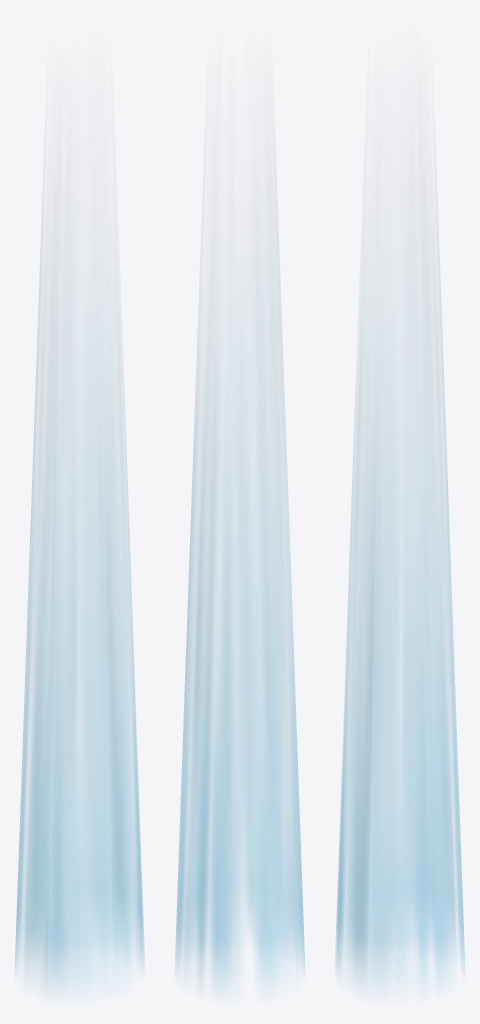
The picture shows the model from 3 angles, left to right: view 1: azimuth 90°, elevation 25°; view 2: azimuth 210°, elevation 25°; view 3: azimuth 270°, elevation 25°; orthographic projection.
Parts seen in each view (by area): view 1: beam_fx; view 2: beam_fx; view 3: beam_fx.
Boxes of the visible parts, x1=… form: beam_fx: x1=15, y1=62, x2=144, y2=996; beam_fx: x1=175, y1=61, x2=304, y2=995; beam_fx: x1=335, y1=58, x2=464, y2=994.
Size of the model in its own units: 0.125 by 1 by 0.125.
1 material, 1 textured.
